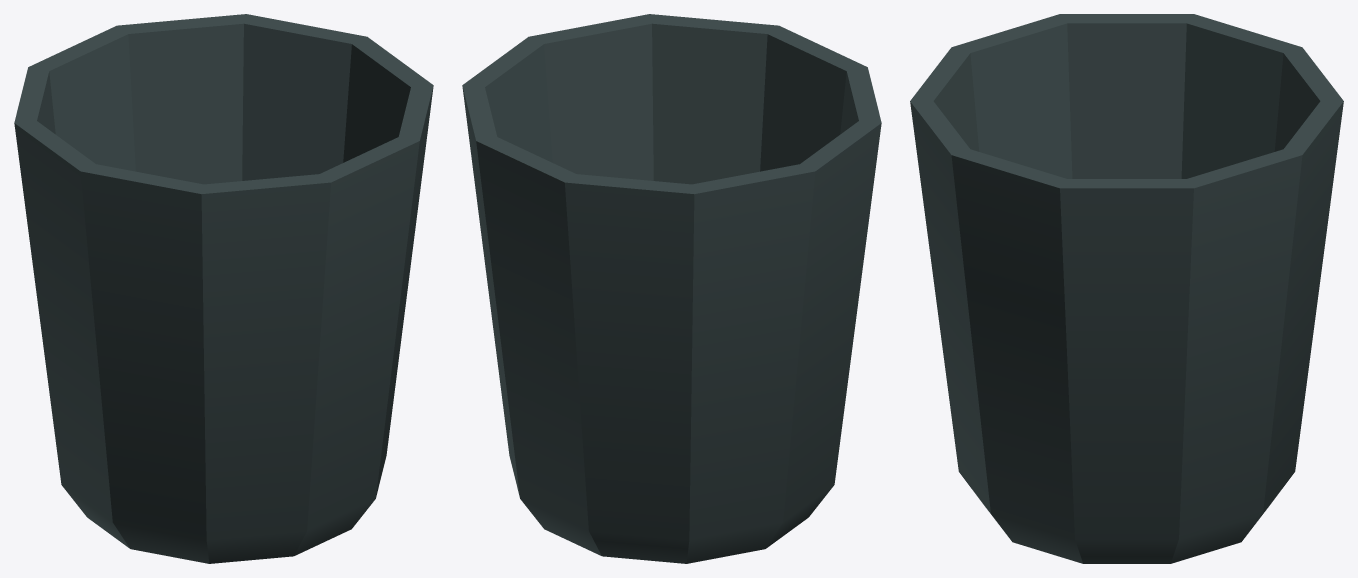
The model's file is szklanka.fbx.
3 views of the same model, side by side, from view 1: azimuth 30°, elevation 25°; view 2: azimuth 150°, elevation 25°; view 3: azimuth 270°, elevation 25° (orthographic).
Visible parts, largest first — view 1: szklanka_L; view 2: szklanka_L; view 3: szklanka_L.
Part boxes in pixels (x1=…): szklanka_L: x1=14, y1=14, x2=433, y2=563; szklanka_L: x1=462, y1=14, x2=881, y2=563; szklanka_L: x1=910, y1=14, x2=1343, y2=563.
Bounding box in the file's own units: 118 × 112 × 122.
